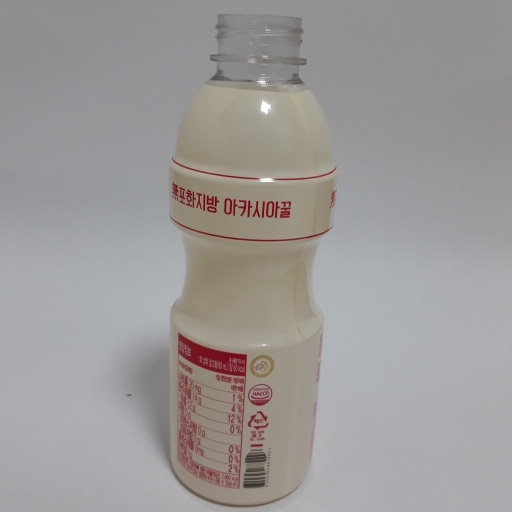Plastic_0: (165, 9, 335, 505)
